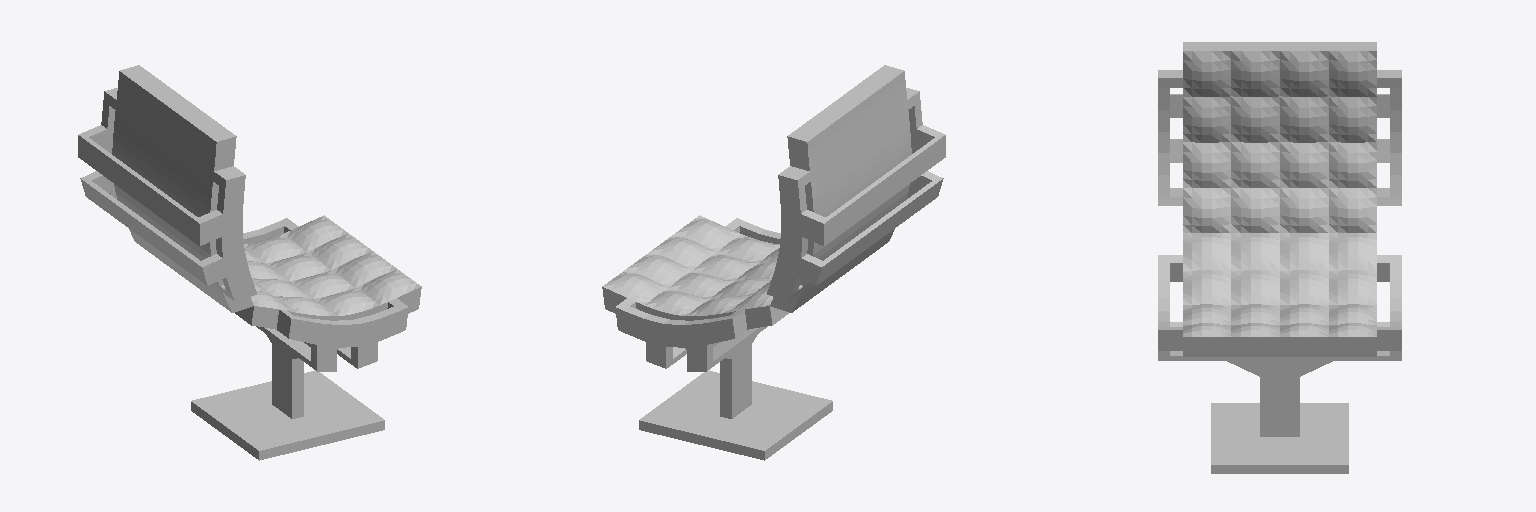
The model's file is CaptiansChair.obj.
3 renders of one model, left to right at view 1: azimuth 30°, elevation 25°; view 2: azimuth 150°, elevation 25°; view 3: azimuth 270°, elevation 25°, orthographic.
Visible parts, largest first — view 1: Back_Plane, Seat_Plane, Base_Cube.002; view 2: Back_Plane, Seat_Plane, Base_Cube.002; view 3: Back_Plane, Seat_Plane, Base_Cube.002.
Part boxes in pixels (left/top/right/bottom): Back_Plane: left=78, top=65, right=256, bottom=312; Seat_Plane: left=235, top=215, right=421, bottom=371; Base_Cube.002: left=191, top=334, right=384, bottom=460; Back_Plane: left=767, top=65, right=945, bottom=312; Seat_Plane: left=602, top=215, right=788, bottom=371; Base_Cube.002: left=639, top=334, right=832, bottom=460; Back_Plane: left=1158, top=42, right=1401, bottom=232; Seat_Plane: left=1158, top=233, right=1401, bottom=360; Base_Cube.002: left=1211, top=361, right=1348, bottom=473.
Bounding box in the file's own units: 11.09 × 15.58 × 10.